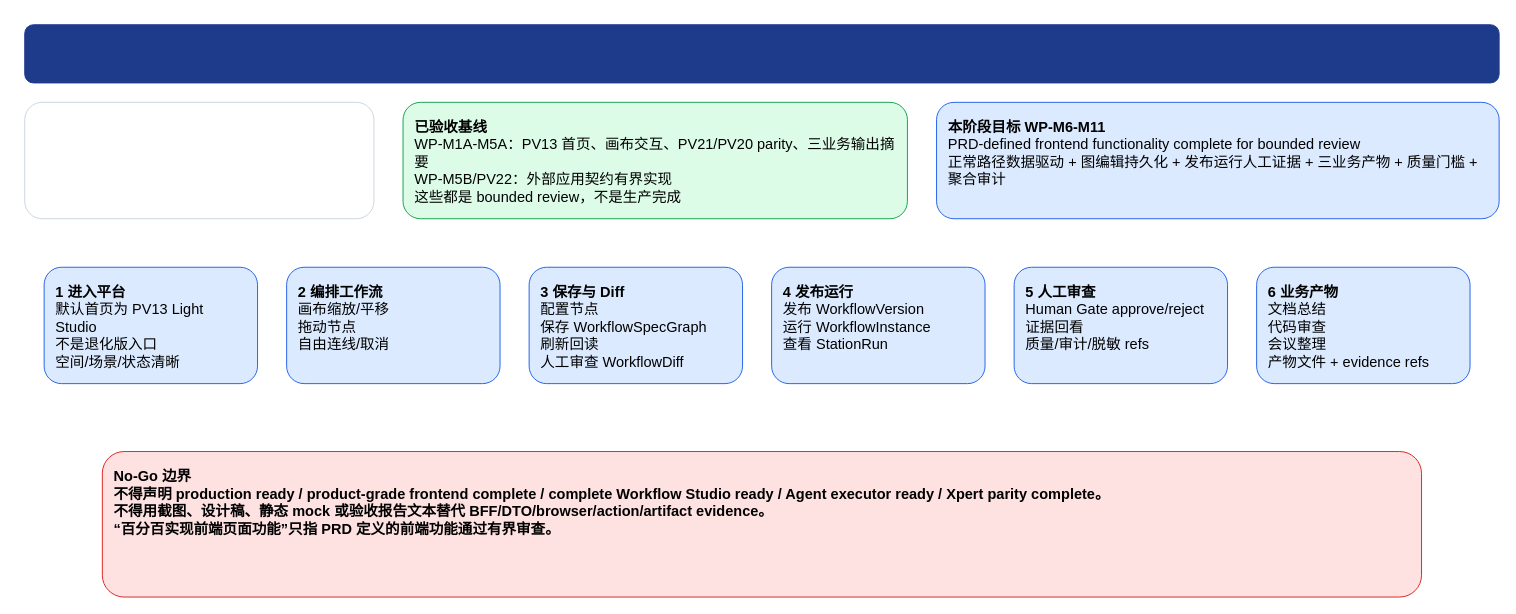
Some shapes in this 1516 by 614 pixel diagram are drawn without their labels. The centre of each missing label's shape, as x and y in pixels:
状态颜色 绿色=已验收基线 蓝色=本阶段待新增 黄色=需修改/收敛 红色=No-Go/禁止扩张: (x=199, y=160)
目标体验总览：PV13 工作流平台前端功能闭环: (x=761, y=53)
